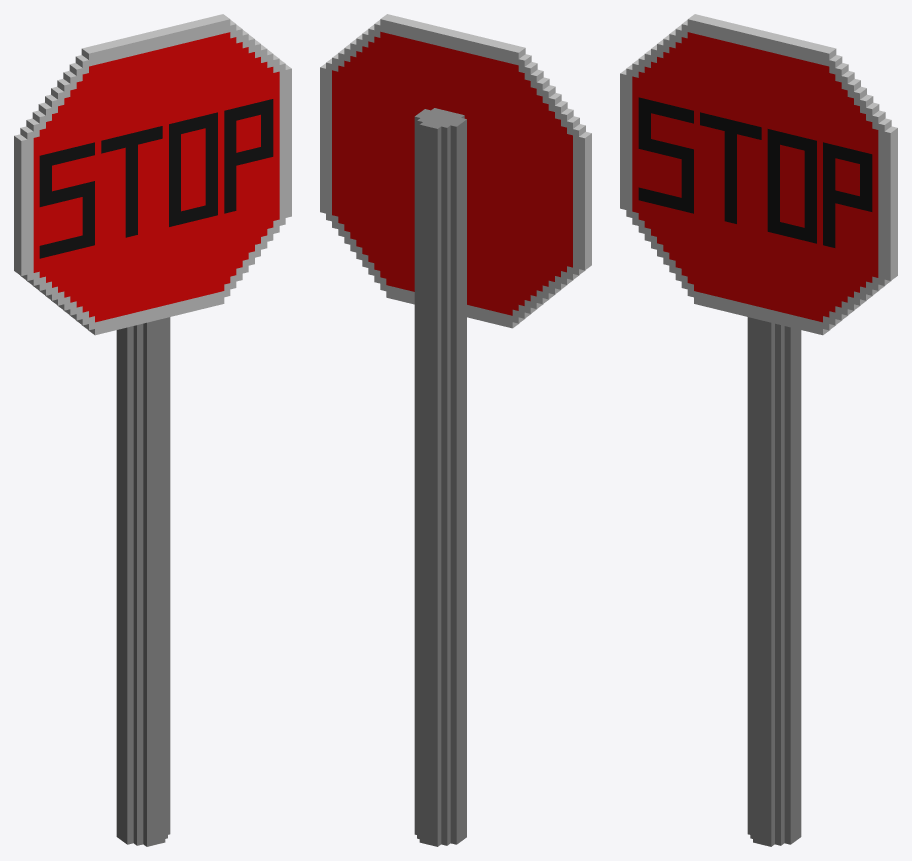
Rendered from StopSing.obj.
The picture shows the model from 3 angles, left to right: view 1: azimuth 30°, elevation 25°; view 2: azimuth 150°, elevation 25°; view 3: azimuth 330°, elevation 25°; orthographic projection. The views are drawn at different scales.
Visible parts, largest first — view 1: StopSing; view 2: StopSing; view 3: StopSing.
Boxes of the visible parts, left/top/right/bottom form: StopSing: left=14, top=14, right=291, bottom=846; StopSing: left=320, top=14, right=591, bottom=846; StopSing: left=620, top=14, right=897, bottom=846.
Bounding box in the file's own units: 44 × 126 × 8.
